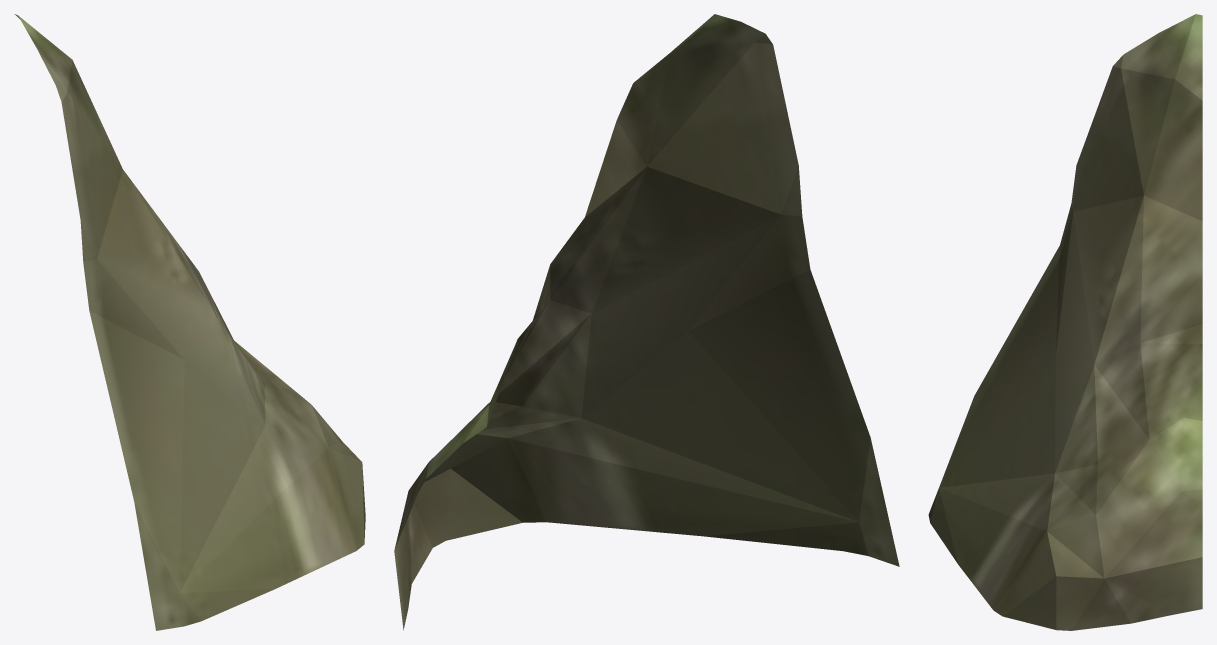
The picture shows the model from 3 angles, left to right: view 1: azimuth 30°, elevation 25°; view 2: azimuth 150°, elevation 25°; view 3: azimuth 270°, elevation 25°; orthographic projection. The views are drawn at different scales.
Bounding box in the file's own units: 2.2 × 3.91 × 1.98.
1 material, 1 textured.
